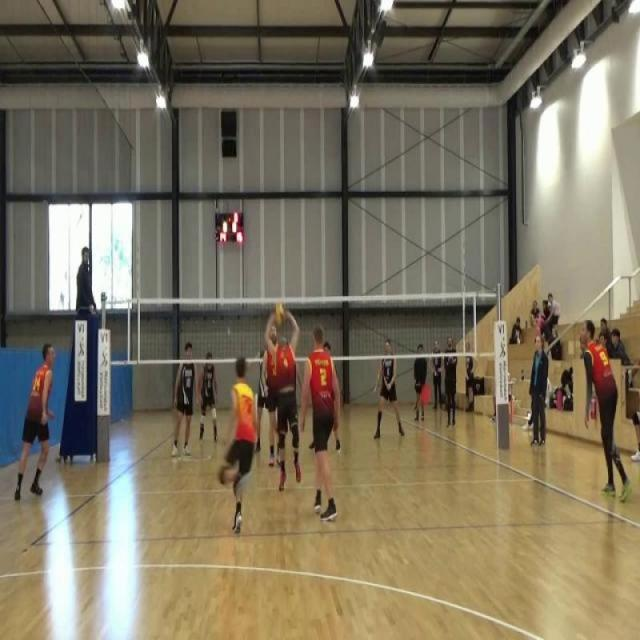volleyball: (274, 300, 286, 330)
